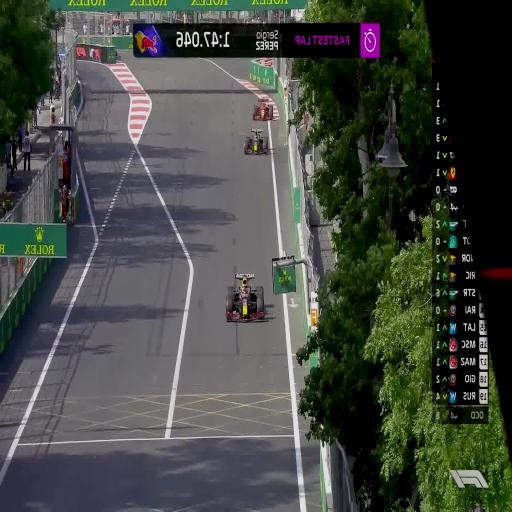f1_car: (227, 274, 265, 320), (244, 128, 269, 154), (253, 98, 273, 120)
